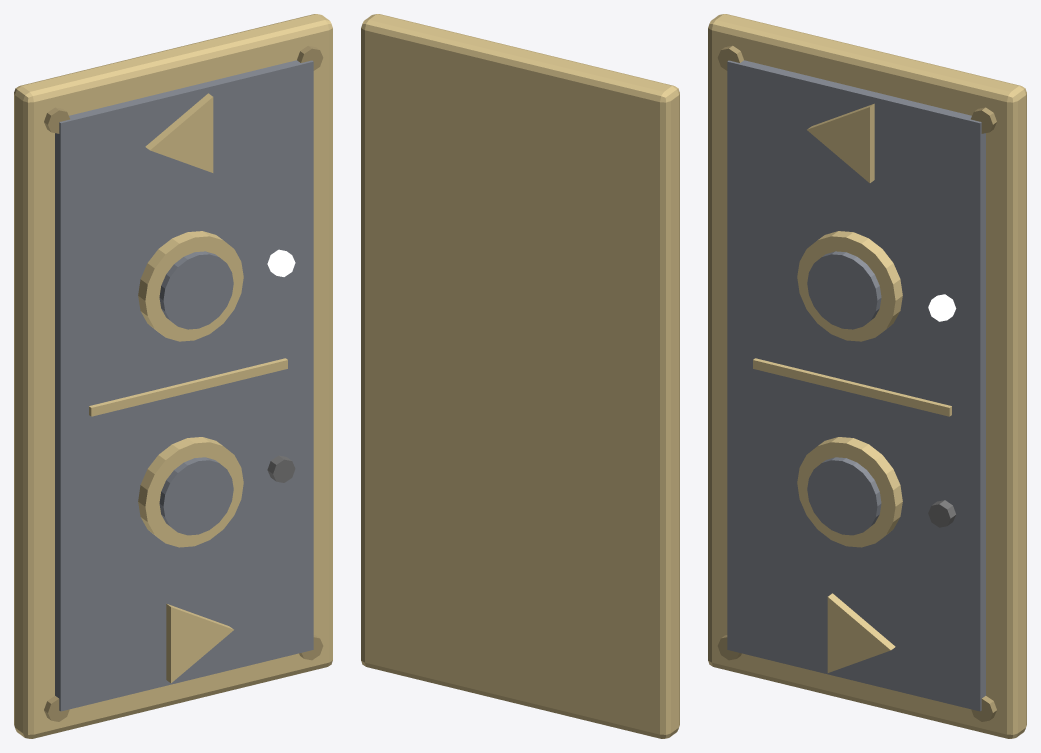
The model's file is prop_elevator_panel.glb.
The picture shows the model from 3 angles, left to right: view 1: azimuth 30°, elevation 25°; view 2: azimuth 150°, elevation 25°; view 3: azimuth 330°, elevation 25°; orthographic projection.
Visible parts, largest first — view 1: Panel, DotMain; view 2: Panel; view 3: Panel, DotMain.
Boxes of the visible parts, x1=… form: Panel: x1=14, y1=14, x2=332, y2=738; DotMain: x1=267, y1=249, x2=295, y2=276; Panel: x1=361, y1=14, x2=679, y2=738; Panel: x1=708, y1=14, x2=1026, y2=738; DotMain: x1=928, y1=294, x2=956, y2=321.
Bounding box in the file's own units: 0.22 × 0.44 × 0.041.
